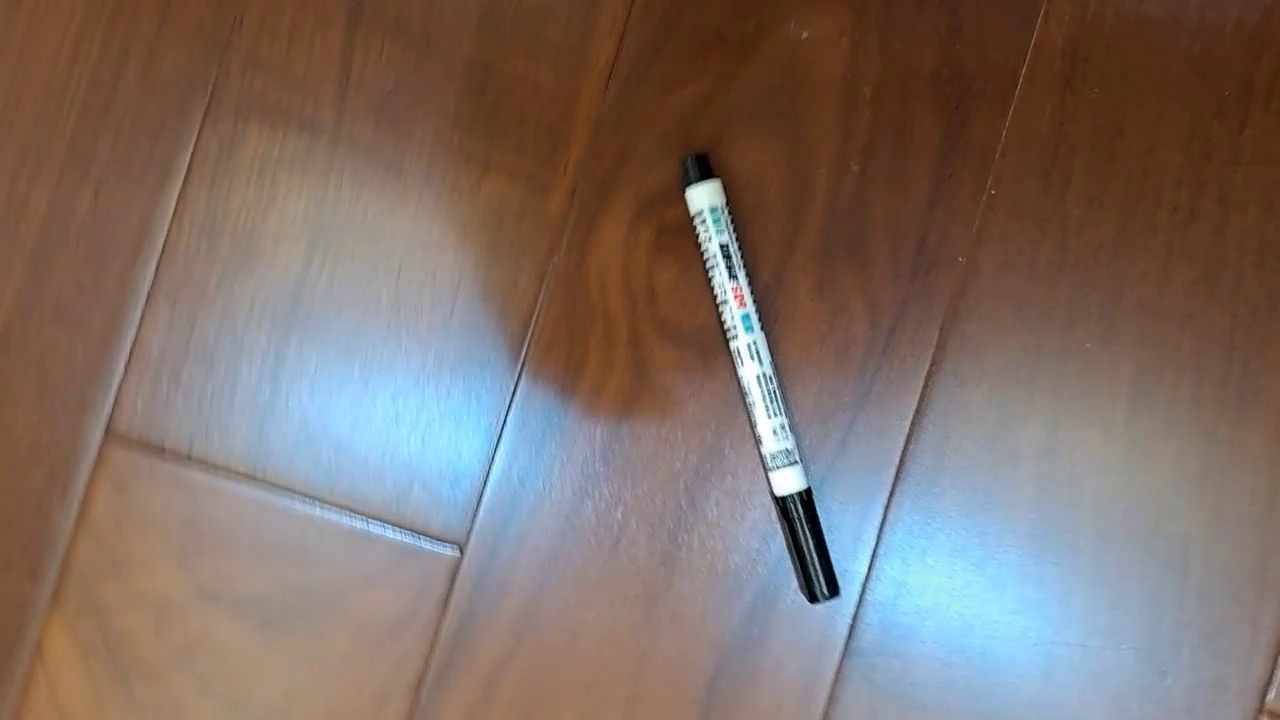pen: (679, 150, 841, 605)
